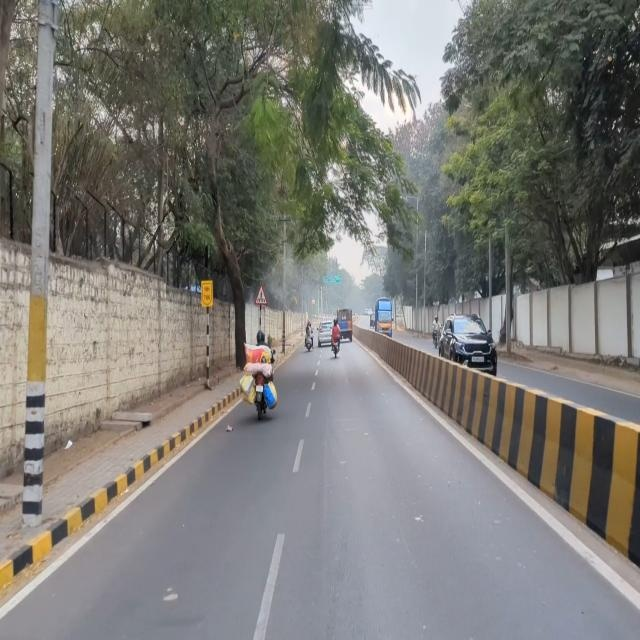bien_nguy_hiem: (255, 282, 268, 306)
